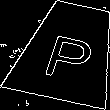P_N: (38, 23, 98, 81)
